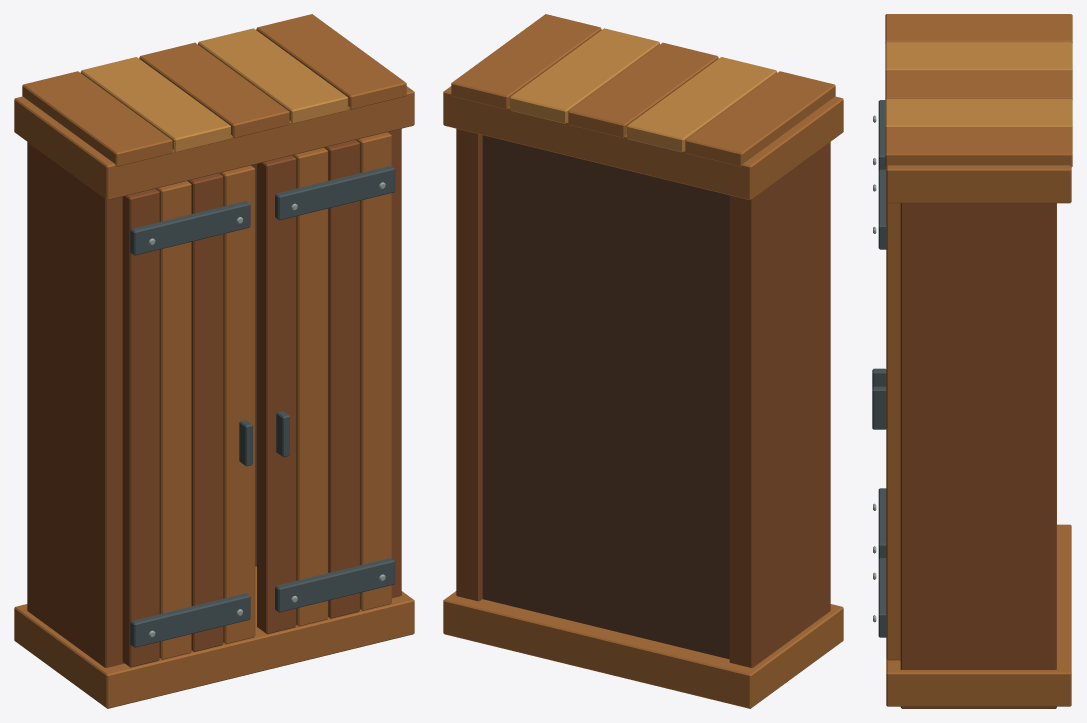
File: sailor_wardrobe.glb
3 renders of one model, left to right at view 1: azimuth 30°, elevation 25°; view 2: azimuth 150°, elevation 25°; view 3: azimuth 270°, elevation 25°, orthographic.
Visible parts, largest first — view 1: sailor_wardrobe__body__oak, sailor_wardrobe__body__oak2, sailor_wardrobe__door_right__oak, sailor_wardrobe__door_left__oak, sailor_wardrobe__door_left__oak2, sailor_wardrobe__door_right__oak2, sailor_wardrobe__body__oak3, sailor_wardrobe__door_right__metal, sailor_wardrobe__door_left__metal, sailor_wardrobe__body__wood_dark; view 2: sailor_wardrobe__body__wood_dark, sailor_wardrobe__body__oak, sailor_wardrobe__body__oak2, sailor_wardrobe__body__oak3; view 3: sailor_wardrobe__body__oak, sailor_wardrobe__body__oak2, sailor_wardrobe__body__oak3, sailor_wardrobe__door_right__oak2, sailor_wardrobe__door_right__metal, sailor_wardrobe__door_left__metal.
Part boxes in pixels (bbox=[...]): sailor_wardrobe__body__oak: bbox=[27, 128, 401, 667]; sailor_wardrobe__body__oak2: bbox=[14, 14, 414, 708]; sailor_wardrobe__door_right__oak: bbox=[257, 140, 359, 634]; sailor_wardrobe__door_left__oak: bbox=[122, 173, 223, 667]; sailor_wardrobe__door_left__oak2: bbox=[156, 165, 255, 659]; sailor_wardrobe__door_right__oak2: bbox=[292, 132, 391, 626]; sailor_wardrobe__body__oak3: bbox=[80, 28, 348, 152]; sailor_wardrobe__door_right__metal: bbox=[275, 165, 395, 612]; sailor_wardrobe__door_left__metal: bbox=[130, 201, 252, 647]; sailor_wardrobe__body__wood_dark: bbox=[251, 164, 256, 566]; sailor_wardrobe__body__wood_dark: bbox=[482, 135, 729, 659]; sailor_wardrobe__body__oak: bbox=[456, 128, 830, 667]; sailor_wardrobe__body__oak2: bbox=[443, 14, 843, 708]; sailor_wardrobe__body__oak3: bbox=[509, 28, 777, 152]; sailor_wardrobe__body__oak: bbox=[900, 203, 1056, 708]; sailor_wardrobe__body__oak2: bbox=[885, 14, 1072, 706]; sailor_wardrobe__body__oak3: bbox=[885, 42, 1072, 127]; sailor_wardrobe__door_right__oak2: bbox=[886, 202, 900, 660]; sailor_wardrobe__door_right__metal: bbox=[872, 169, 886, 637]; sailor_wardrobe__door_left__metal: bbox=[872, 100, 886, 558].
Bounding box in the file's own units: 1.58 × 2.74 × 0.8975.
